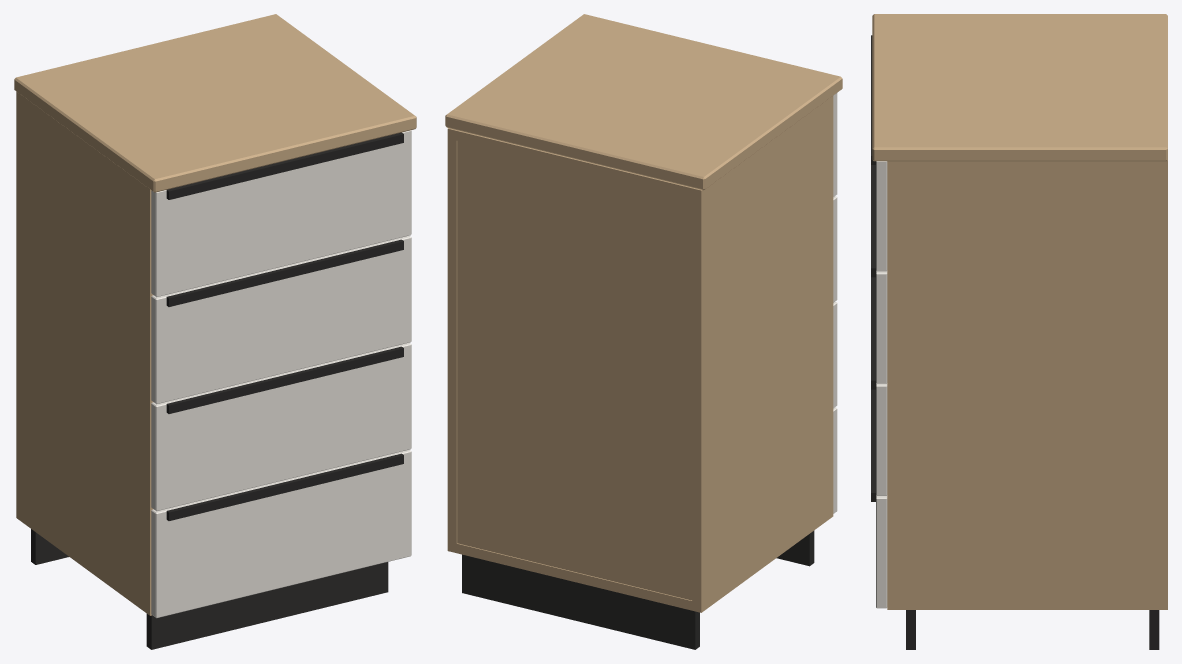
The model's file is 03_komoda_50_4sz.glb.
3 renders of one model, left to right at view 1: azimuth 30°, elevation 25°; view 2: azimuth 150°, elevation 25°; view 3: azimuth 270°, elevation 25°, orthographic. The views are drawn at different scales.
Parts seen in each view (by area): view 1: Korpus, Wierzch, Front_szuflada_2, Front_szuflada_3, Front_szuflada_4, Front_szuflada_1, Uchwyty, Cokol; view 2: Korpus, Wierzch, Cokol; view 3: Korpus, Wierzch, Uchwyty, Front_szuflada_4, Front_szuflada_2, Front_szuflada_3, Front_szuflada_1, Cokol.
Part boxes in pixels (box(x1,y1,x2,y2)): Korpus: box(16, 91, 153, 615); Wierzch: box(14, 14, 416, 192); Front_szuflada_2: box(151, 235, 411, 404); Front_szuflada_3: box(151, 342, 411, 511); Front_szuflada_4: box(151, 450, 411, 618); Front_szuflada_1: box(151, 130, 411, 297); Uchwyty: box(166, 132, 403, 520); Cokol: box(31, 529, 388, 649); Korpus: box(447, 96, 833, 612); Wierzch: box(445, 14, 842, 190); Cokol: box(462, 530, 814, 649); Korpus: box(887, 160, 1167, 609); Wierzch: box(872, 14, 1167, 161); Uchwyty: box(871, 35, 875, 501); Front_szuflada_4: box(876, 495, 887, 608); Front_szuflada_2: box(876, 271, 887, 383); Front_szuflada_3: box(876, 383, 887, 495); Front_szuflada_1: box(876, 161, 887, 271); Cokol: box(906, 610, 1159, 649).
Size of the model in its own units: 0.512 by 0.9 by 0.476.
